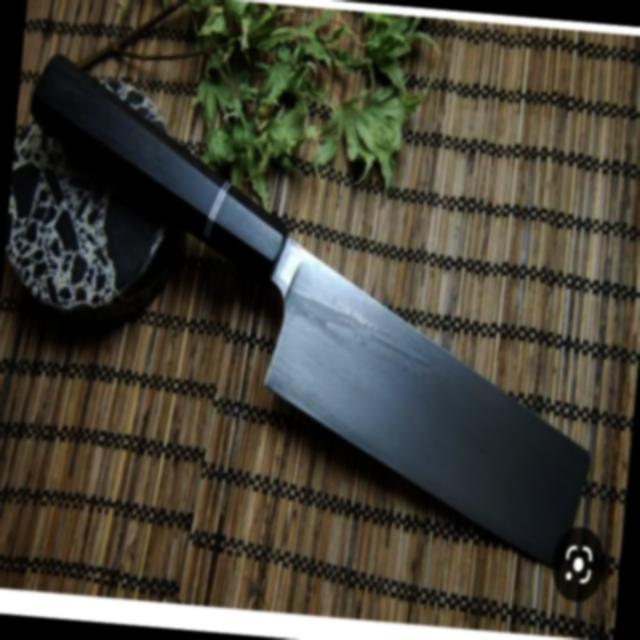knife: (31, 53, 590, 571)
